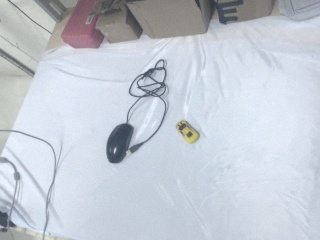box: (125, 1, 214, 38), (60, 1, 103, 51), (96, 1, 142, 45), (215, 1, 274, 29)
mouse: (105, 120, 133, 165)
toy_car: (176, 116, 200, 146)
